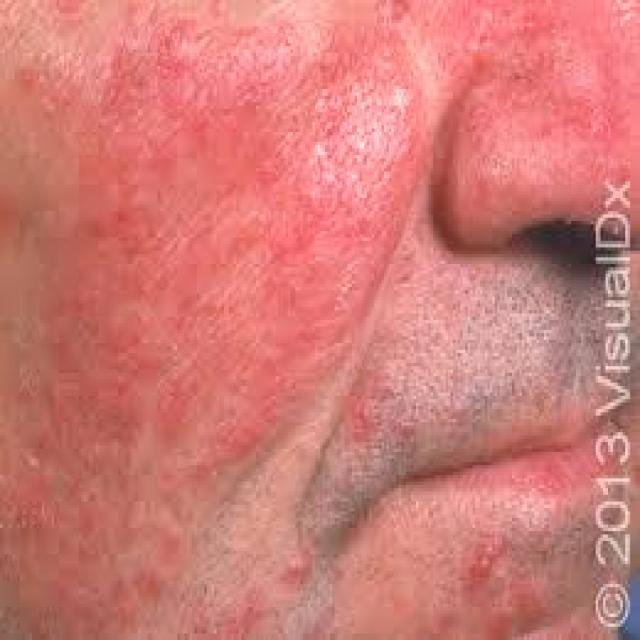Rosacea: (13, 15, 425, 640), (401, 0, 640, 228), (434, 533, 544, 640)
